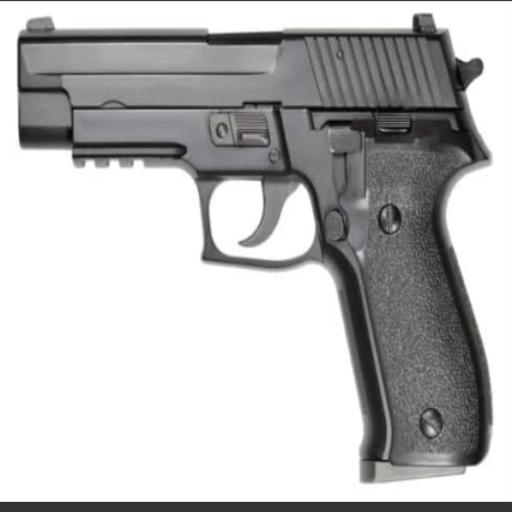Gun: (19, 16, 491, 478)
